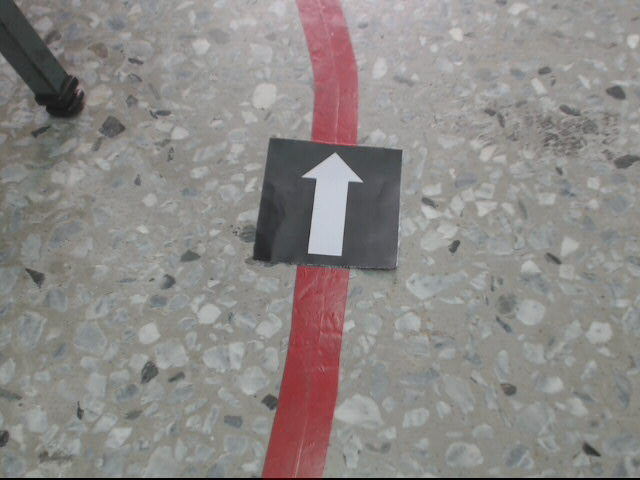straight: (252, 138, 404, 272)
